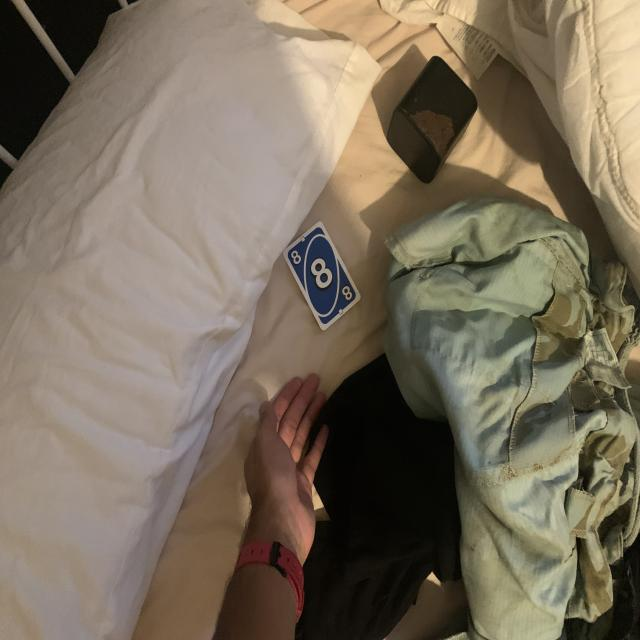lblue-8: (288, 249, 305, 267)
